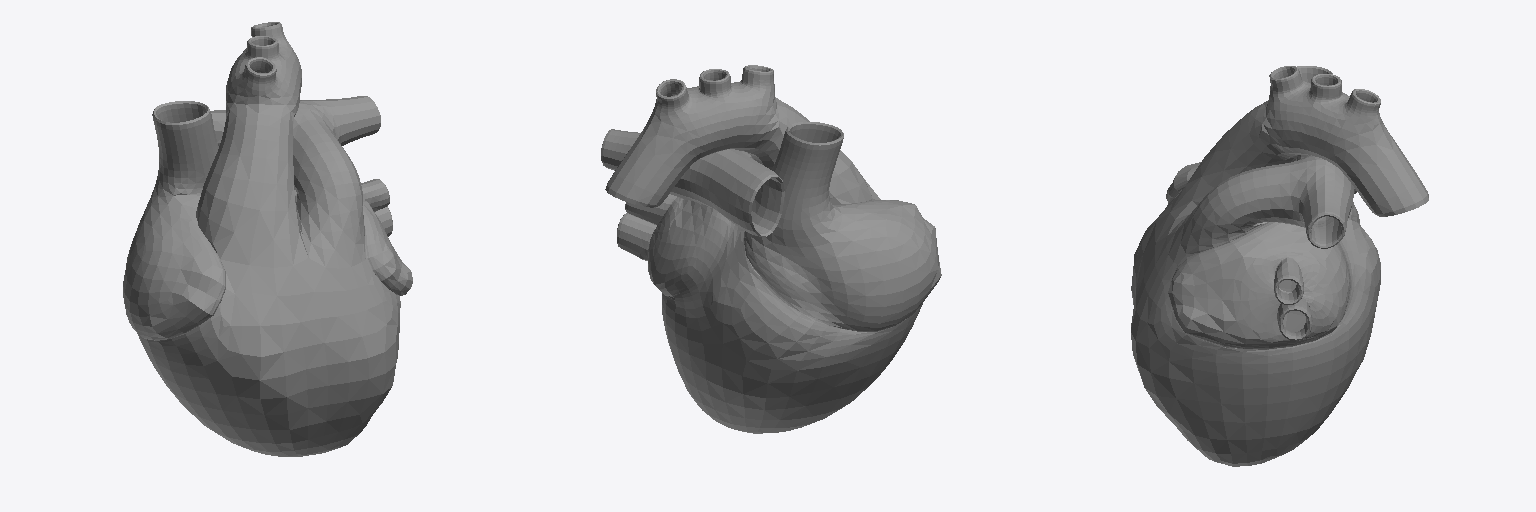
Rendered from bumpheart.obj.
3 views of the same model, side by side, from view 1: azimuth 30°, elevation 25°; view 2: azimuth 150°, elevation 25°; view 3: azimuth 270°, elevation 25° (orthographic).
Visible parts, largest first — view 1: Mesh_(null); view 2: Mesh_(null); view 3: Mesh_(null).
Boxes of the visible parts, <box> form: Mesh_(null): <box>123,22,412,456</box>; Mesh_(null): <box>601,65,941,433</box>; Mesh_(null): <box>1131,66,1428,466</box>.
Bounding box in the file's own units: 12.42 × 16.28 × 11.5.